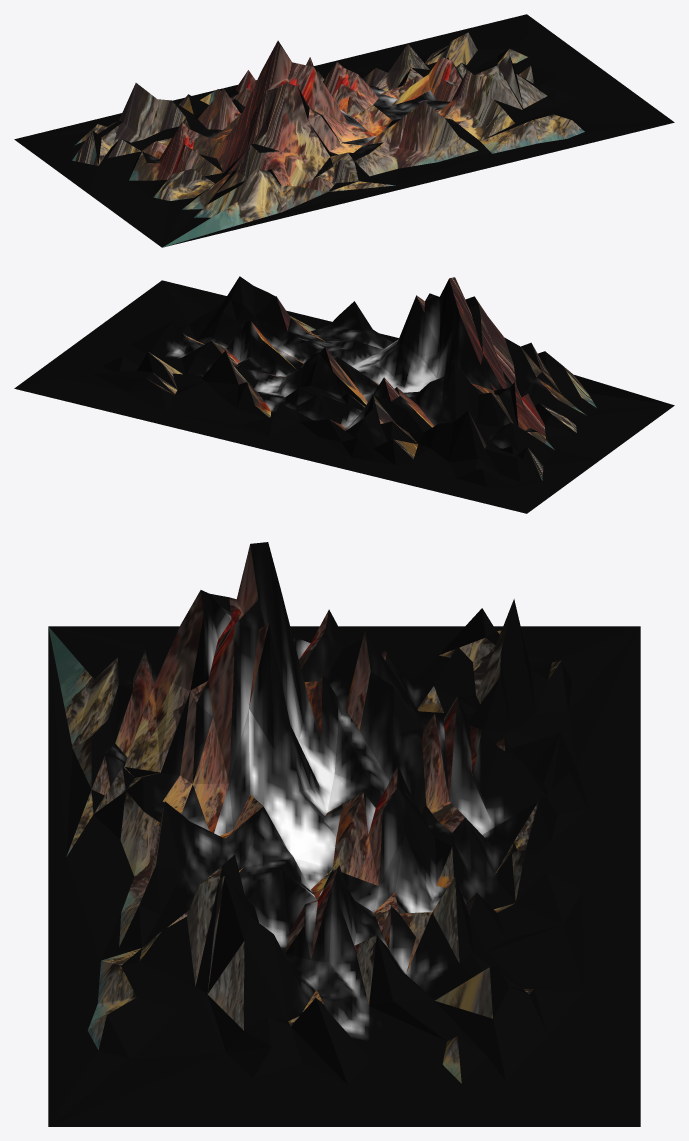
The model's file is F_Island_07.fbx.
3 views of the same model, one above another, from view 1: azimuth 30°, elevation 25°; view 2: azimuth 150°, elevation 25°; view 3: azimuth 270°, elevation 25° (orthographic). The views are drawn at different scales.
Parts seen in each view (by area): view 1: F_Island_07, FX_Island; view 2: FX_Island, F_Island_07; view 3: FX_Island, F_Island_07.
Part boxes in pixels (x1,y1,x2,y2): F_Island_07: [72, 32, 584, 247]; FX_Island: [14, 14, 674, 247]; FX_Island: [14, 276, 674, 513]; F_Island_07: [148, 277, 596, 480]; FX_Island: [48, 542, 640, 1126]; F_Island_07: [48, 544, 560, 1083].
Bounding box in the file's own units: 12 × 2.81 × 6.
2 materials, 2 textured.
